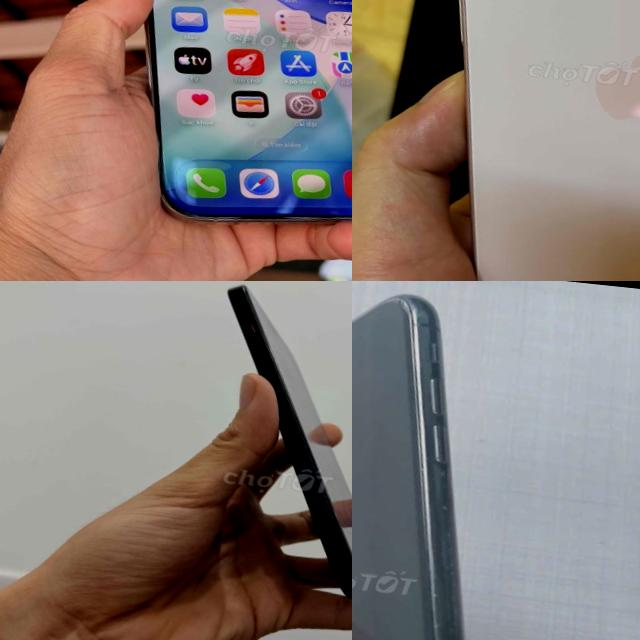gen_15: (392, 0, 640, 281), (184, 281, 352, 630)
gen_16: (83, 0, 352, 247)
gen_x_xs: (352, 295, 462, 640)
scratch: (408, 586, 465, 640), (434, 528, 461, 548), (432, 498, 455, 516)
